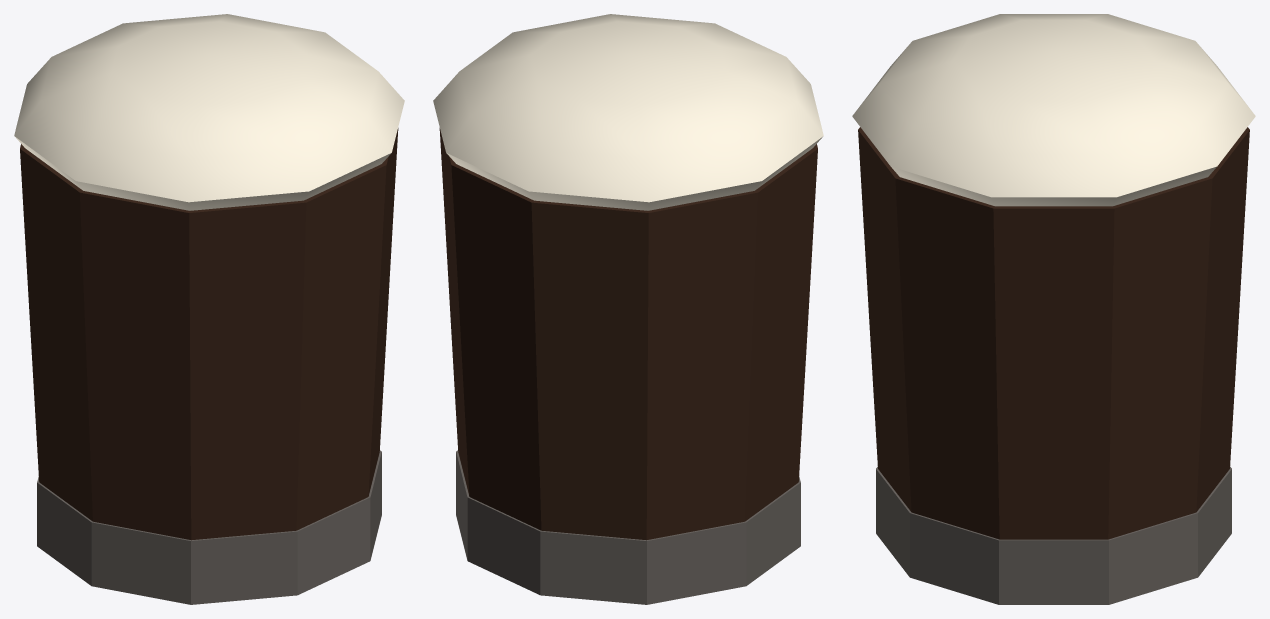
File: PR_Drink_KaraBira.fbx
3 views of the same model, side by side, from view 1: azimuth 30°, elevation 25°; view 2: azimuth 150°, elevation 25°; view 3: azimuth 270°, elevation 25° (orthographic).
Parts seen in each view (by area): view 1: PR_Drink_KaraBira; view 2: PR_Drink_KaraBira; view 3: PR_Drink_KaraBira.
Part boxes in pixels (box(x1,y1,x2,y2)): PR_Drink_KaraBira: box(14, 14, 404, 604); PR_Drink_KaraBira: box(433, 14, 823, 604); PR_Drink_KaraBira: box(852, 14, 1255, 604).
Size of the model in its own units: 0.1293 by 0.1788 by 0.136.
Materials: 1 (1 with a texture image).
